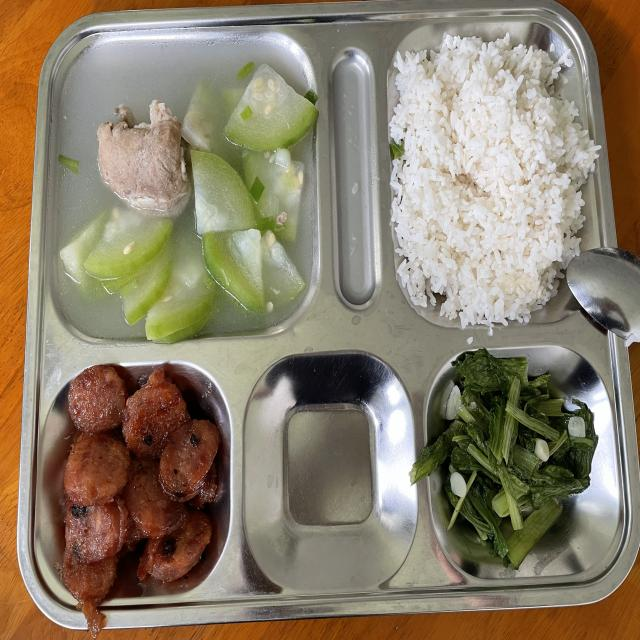canh_cai: (442, 374, 606, 567)
com_trang: (398, 61, 573, 312)
